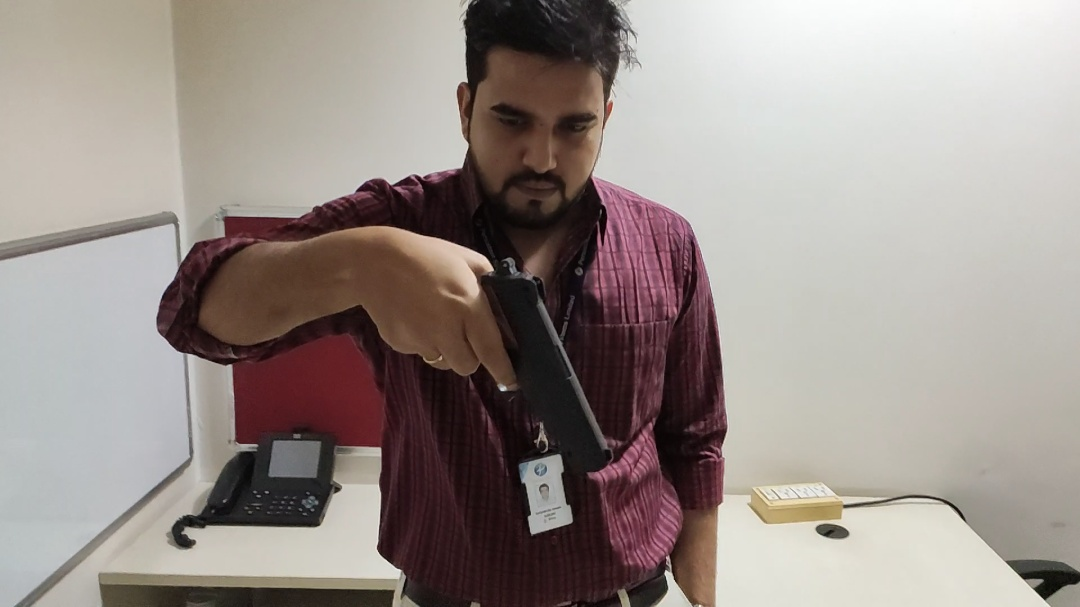gun: (416, 253, 632, 489)
